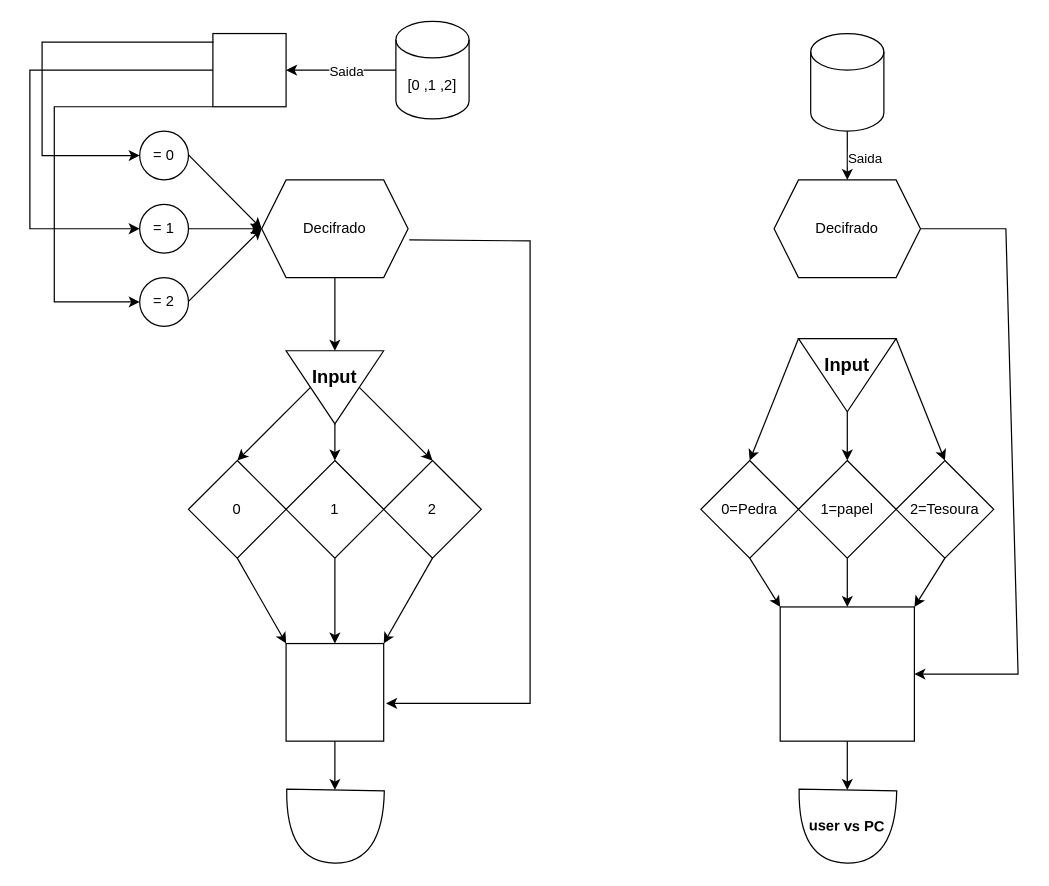
The diagram is 1049 pixels wide and 886 high, and some of its shapes have lost their labels. The box of each missing label's shape, as (x1, y1, x2, y2) in pixels:
Numero sorteado: (212, 32, 286, 107)
Pedra or tesoura Tesoura or papel Papel or pedra: (779, 606, 914, 741)
Pedra papel tesoura: (809, 32, 884, 131)
vs: (285, 642, 384, 741)
